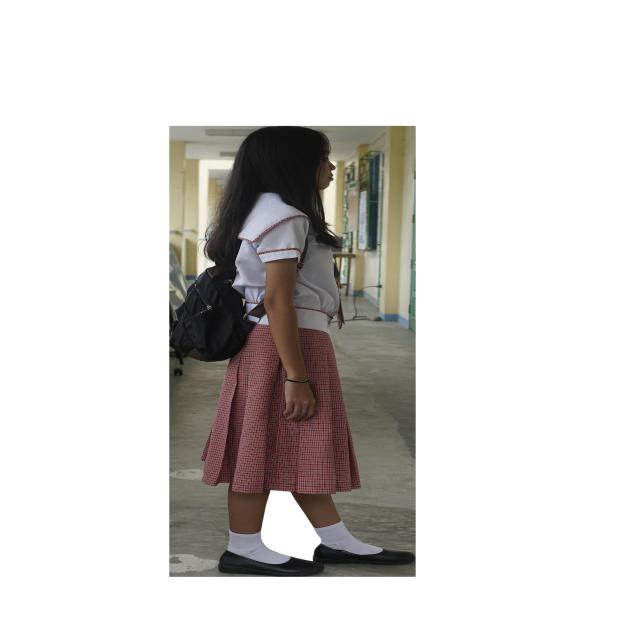shoes: (218, 544, 414, 577)
skirt: (201, 325, 360, 494)
